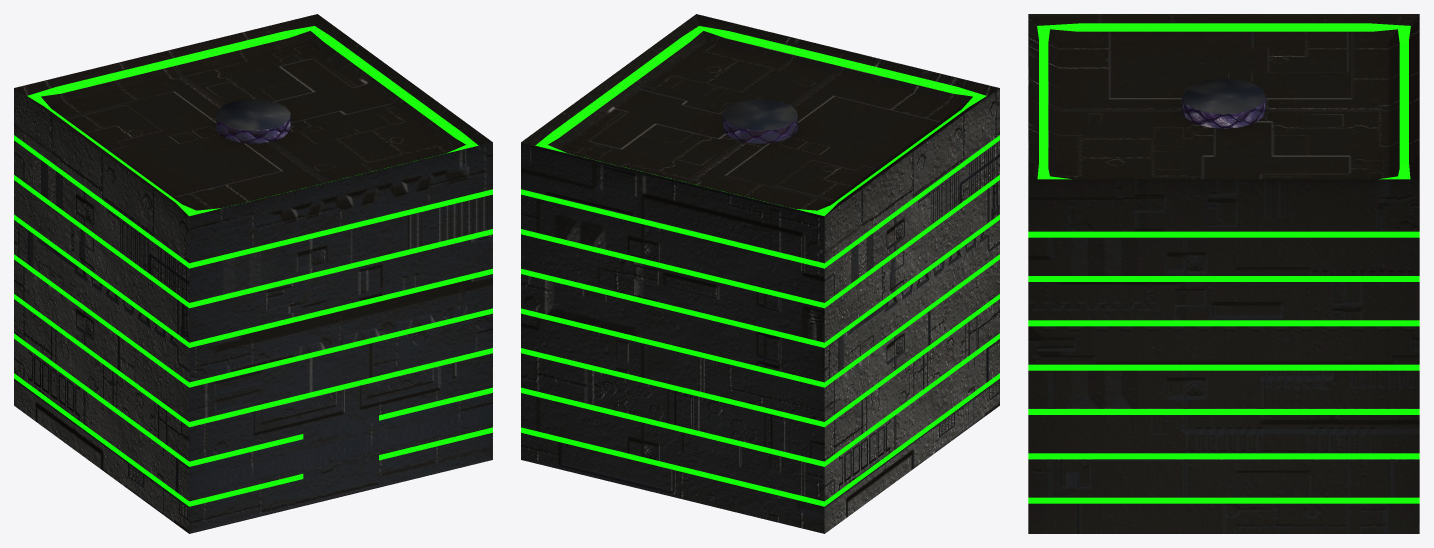
File: Wall and Ceiling.glb
The picture shows the model from 3 angles, left to right: view 1: azimuth 30°, elevation 25°; view 2: azimuth 150°, elevation 25°; view 3: azimuth 270°, elevation 25°; orthographic projection. The views are drawn at different scales.
Parts seen in each view (by area): view 1: Wall and Ceiling; view 2: Wall and Ceiling; view 3: Wall and Ceiling.
Boxes of the visible parts, x1,y1,x2,y2 form: Wall and Ceiling: [14, 14, 492, 533]; Wall and Ceiling: [521, 14, 999, 533]; Wall and Ceiling: [1028, 14, 1419, 533].
Size of what is drawn, in the model's own units: 64 by 64.06 by 64.
Materials: 2 (1 with a texture image).
